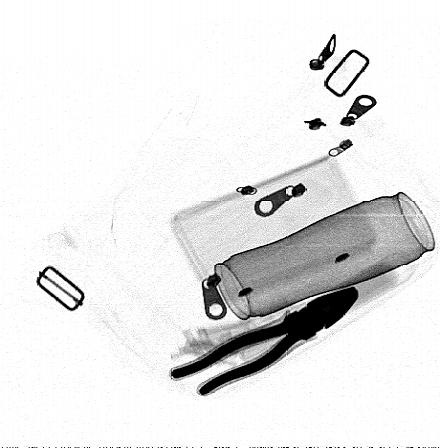Pliers: (169, 285, 360, 394)
